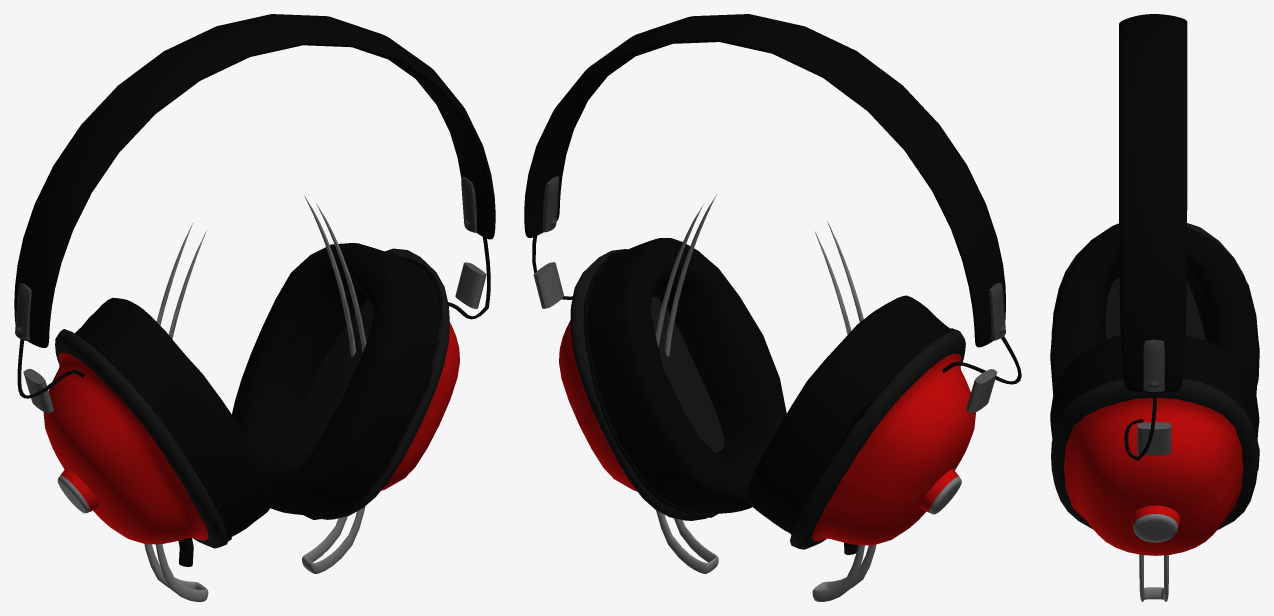
File: earProtection.FBX
The picture shows the model from 3 angles, left to right: view 1: azimuth 30°, elevation 25°; view 2: azimuth 150°, elevation 25°; view 3: azimuth 270°, elevation 25°; orthographic projection. The views are drawn at different scales.
Visible parts, largest first — view 1: Loft02, Box01, Loft01, Sphere01, Cylinder01, Cylinder16, Cylinder12, Cylinder17, Sphere02, Cylinder05, Cylinder10, OilTank01 (+2 smaller); view 2: Loft02, Box01, Loft01, Sphere01, Cylinder01, Cylinder16, Cylinder17, Cylinder12, Sphere02, Cylinder05, Cylinder10, Cylinder06 (+2 smaller); view 3: Box01, Sphere02, Loft01, Loft02, Cylinder17, Cylinder04, OilTank02, Cylinder10, Cylinder15, Cylinder12, Loft04, Cylinder14 (+1 smaller).
Part boxes in pixels (bbox=[...]): Loft02: bbox=[232, 243, 442, 519]; Box01: bbox=[14, 14, 495, 347]; Loft01: bbox=[74, 297, 273, 541]; Sphere01: bbox=[43, 352, 208, 544]; Cylinder01: bbox=[55, 329, 228, 548]; Cylinder16: bbox=[303, 300, 373, 455]; Cylinder12: bbox=[302, 195, 366, 573]; Cylinder17: bbox=[322, 248, 449, 519]; Sphere02: bbox=[381, 323, 459, 490]; Cylinder05: bbox=[144, 223, 208, 601]; Cylinder10: bbox=[455, 262, 486, 308]; OilTank01: bbox=[15, 283, 31, 340]; Loft02: bbox=[583, 238, 786, 517]; Box01: bbox=[524, 14, 1005, 347]; Loft01: bbox=[746, 295, 954, 534]; Sphere01: bbox=[812, 353, 975, 545]; Cylinder01: bbox=[790, 329, 965, 549]; Cylinder16: bbox=[650, 297, 724, 453]; Cylinder17: bbox=[570, 249, 706, 520]; Cylinder12: bbox=[655, 194, 718, 573]; Sphere02: bbox=[559, 320, 636, 491]; Cylinder05: bbox=[812, 221, 876, 601]; Cylinder10: bbox=[533, 262, 564, 308]; Cylinder06: bbox=[966, 369, 997, 413]; Box01: bbox=[1119, 14, 1187, 392]; Sphere02: bbox=[1063, 397, 1243, 555]; Loft01: bbox=[1050, 223, 1259, 394]; Loft02: bbox=[1050, 335, 1259, 470]; Cylinder17: bbox=[1051, 378, 1258, 529]; Cylinder04: bbox=[1105, 277, 1205, 340]; OilTank02: bbox=[1143, 339, 1164, 391]; Cylinder10: bbox=[1137, 422, 1171, 455]; Cylinder15: bbox=[1133, 514, 1177, 542]; Cylinder12: bbox=[1139, 554, 1168, 601]; Loft04: bbox=[1124, 392, 1156, 460]; Cylinder14: bbox=[1131, 505, 1180, 529].
Size of the model in its own units: 188 by 207 by 73.32.
